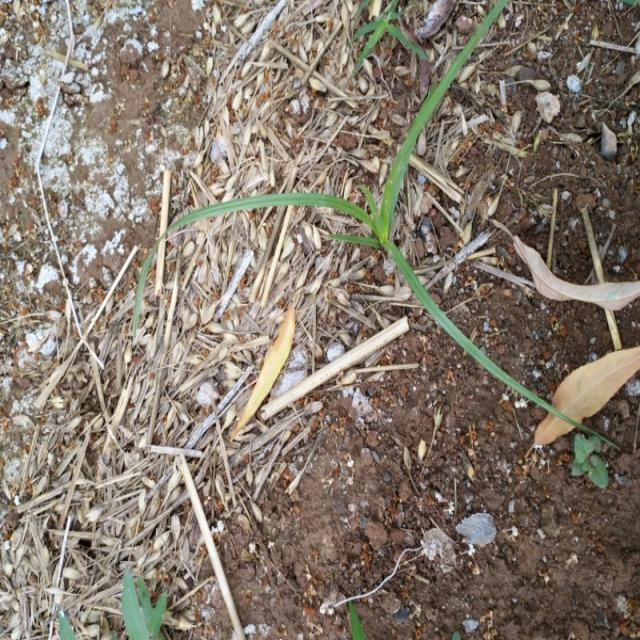sedge: (160, 49, 599, 431)
